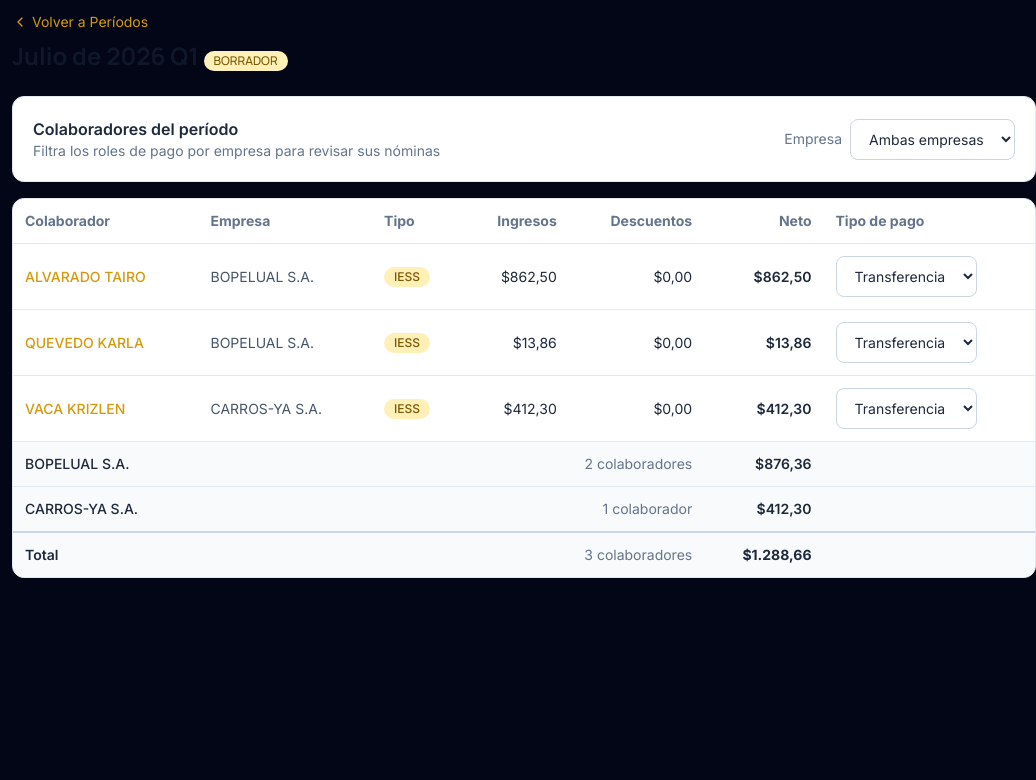
PeriodoDetalle — totales por empresa › oculta la fila Total al filtrar a una sola empresa, porque repetiría su subtotal
Check: the table is shown, box left=13, top=199, right=1035, bottom=577
Select "CARROS-YA S.A." in the dropdown in the row of "Colaboradores del período" at (932, 139), box left=850, top=118, right=1015, bottom=160
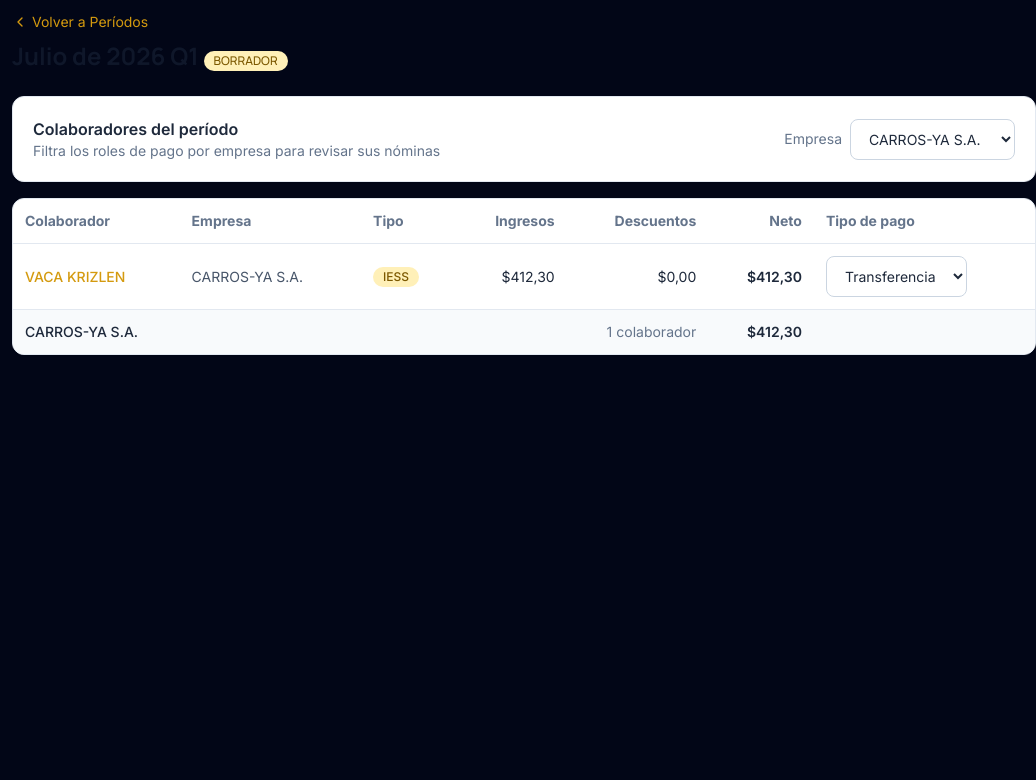
Check: the text "Total" is gone
